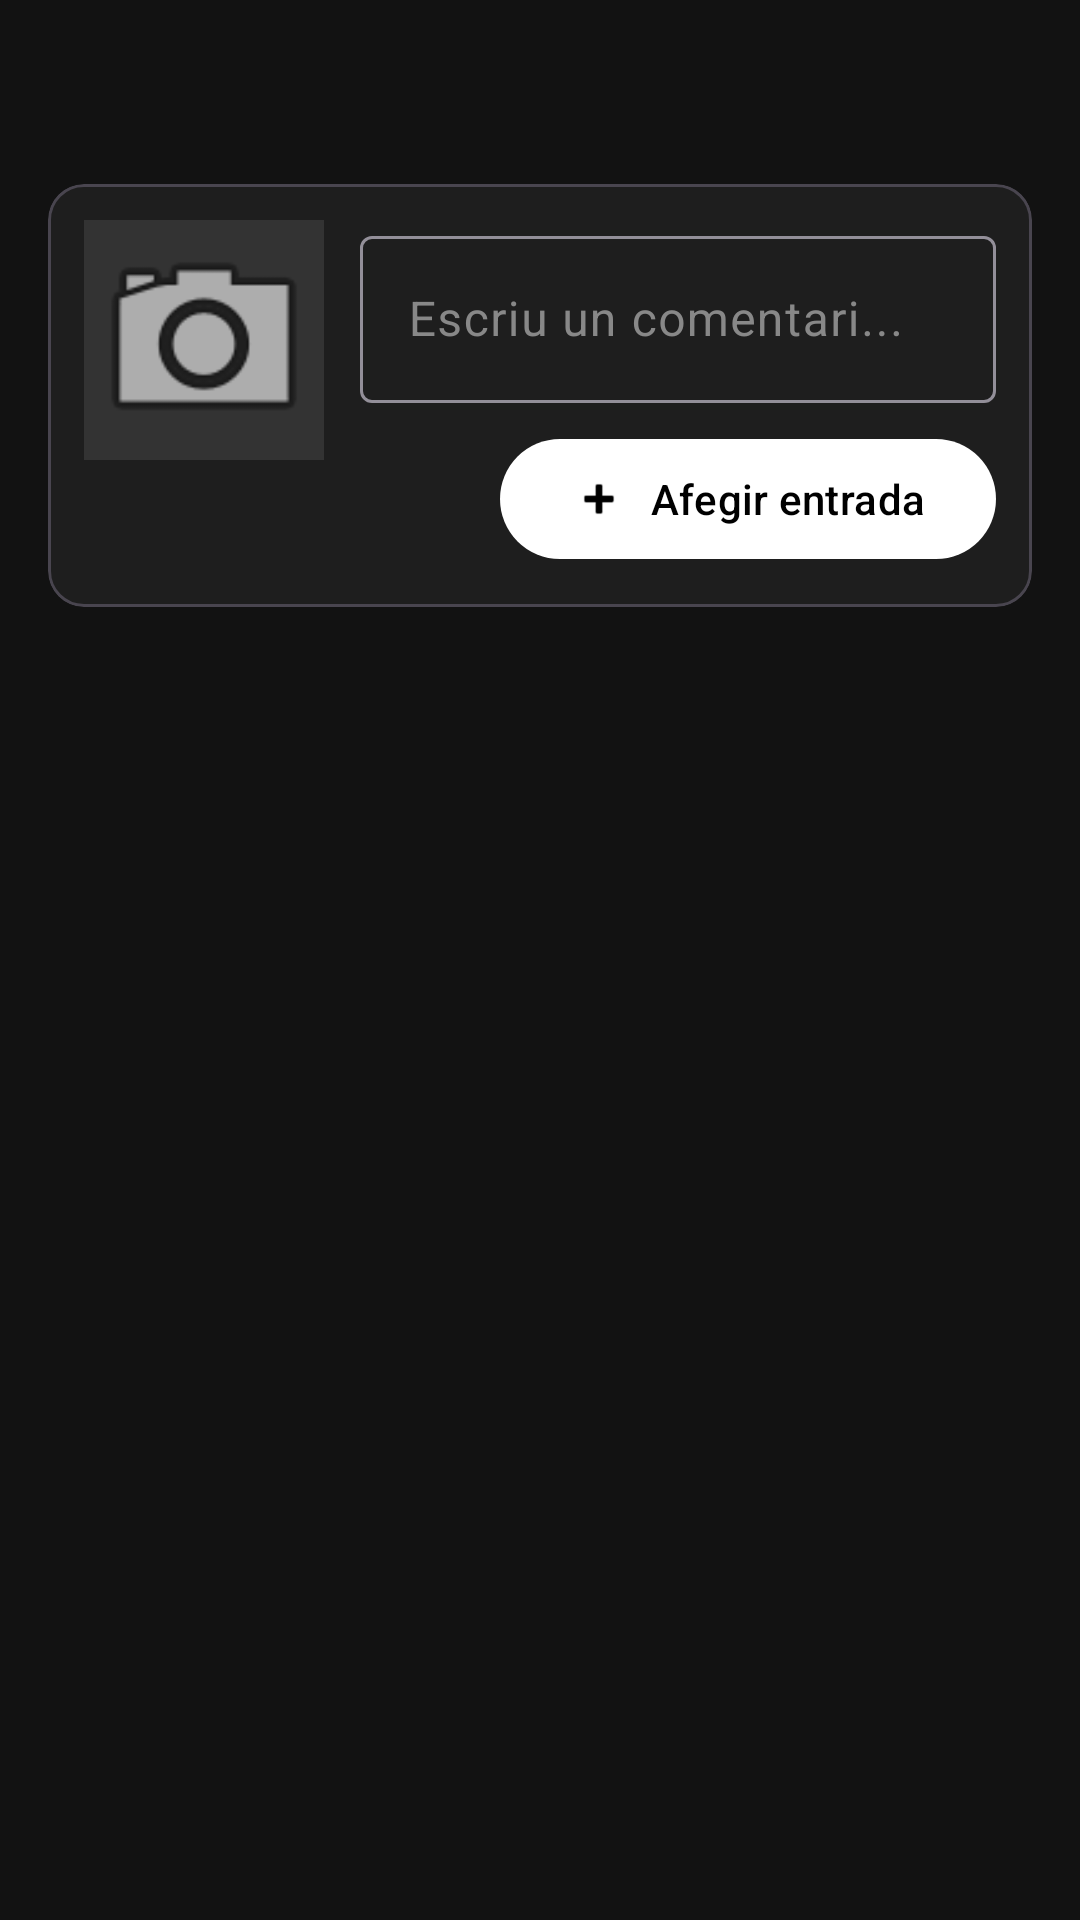

Where icons sit on this 1080w x 1920h app screen, as (x1, y1, x2, y2):
camera: (119, 270, 289, 403)
